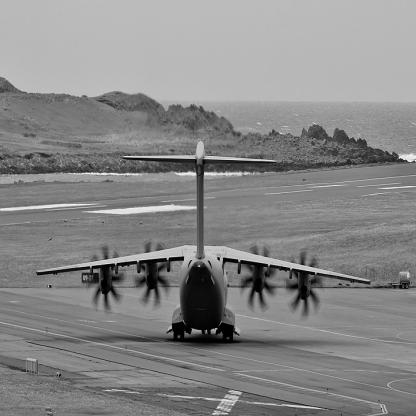A400M: (36, 141, 373, 343)
